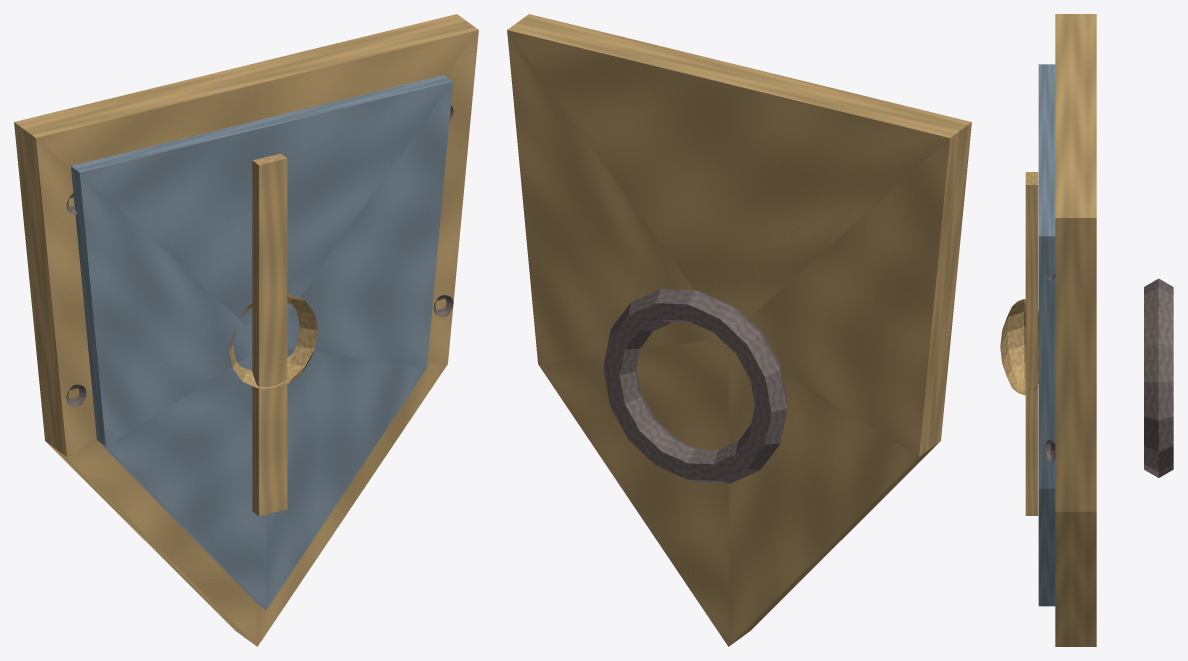
Rendered from lantern-watch-watch-heater-shield__92.glb.
3 renders of one model, left to right at view 1: azimuth 30°, elevation 25°; view 2: azimuth 150°, elevation 25°; view 3: azimuth 270°, elevation 25°, orthographic. The views are drawn at different scales.
Parts seen in each view (by area): view 1: lantern-watch-heater-shield; view 2: lantern-watch-heater-shield; view 3: lantern-watch-heater-shield.
Boxes of the visible parts, x1,y1,x2,y2 form: lantern-watch-heater-shield: [14, 14, 478, 646]; lantern-watch-heater-shield: [507, 14, 971, 646]; lantern-watch-heater-shield: [1000, 14, 1173, 646].
Bounding box in the file's own units: 0.7 × 0.85 × 0.2517.
Materials: 3 (3 with a texture image).
